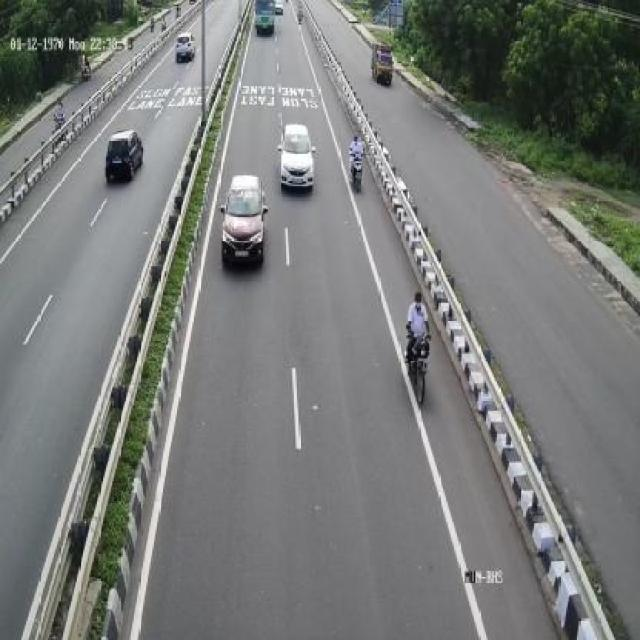car: (223, 170, 271, 272), (277, 119, 318, 192), (105, 124, 146, 188), (169, 29, 197, 65)
